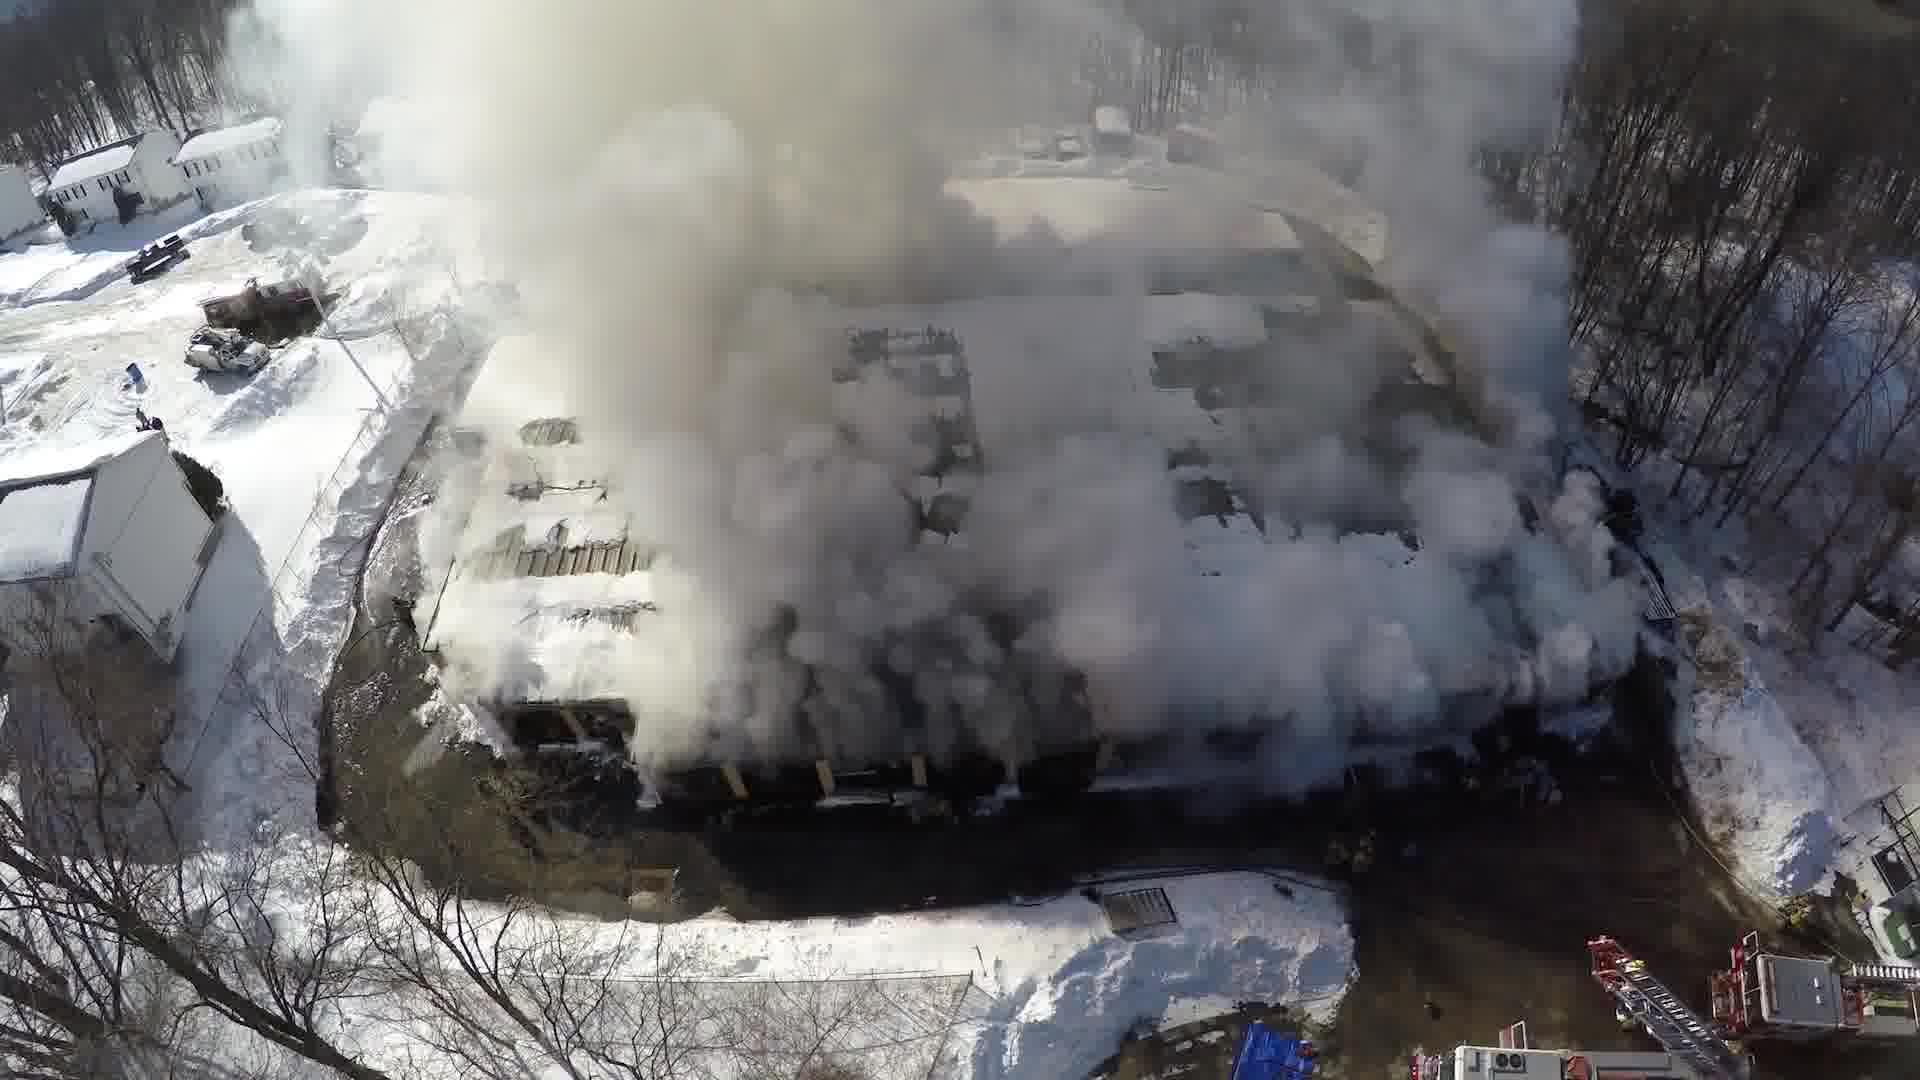smoke: (951, 0, 1600, 781), (224, 0, 949, 389), (630, 393, 948, 790), (425, 492, 543, 708)
